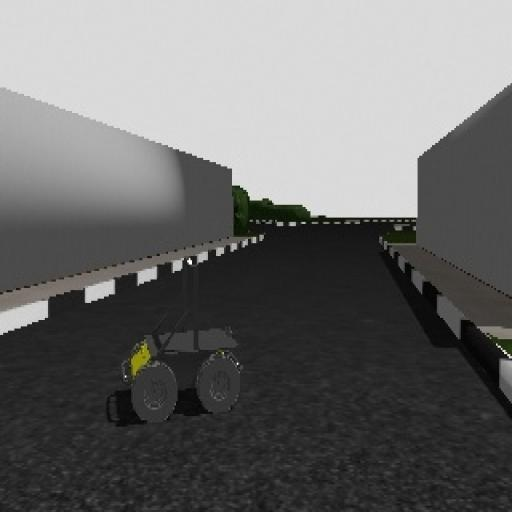huskya200: (98, 252, 272, 442)
